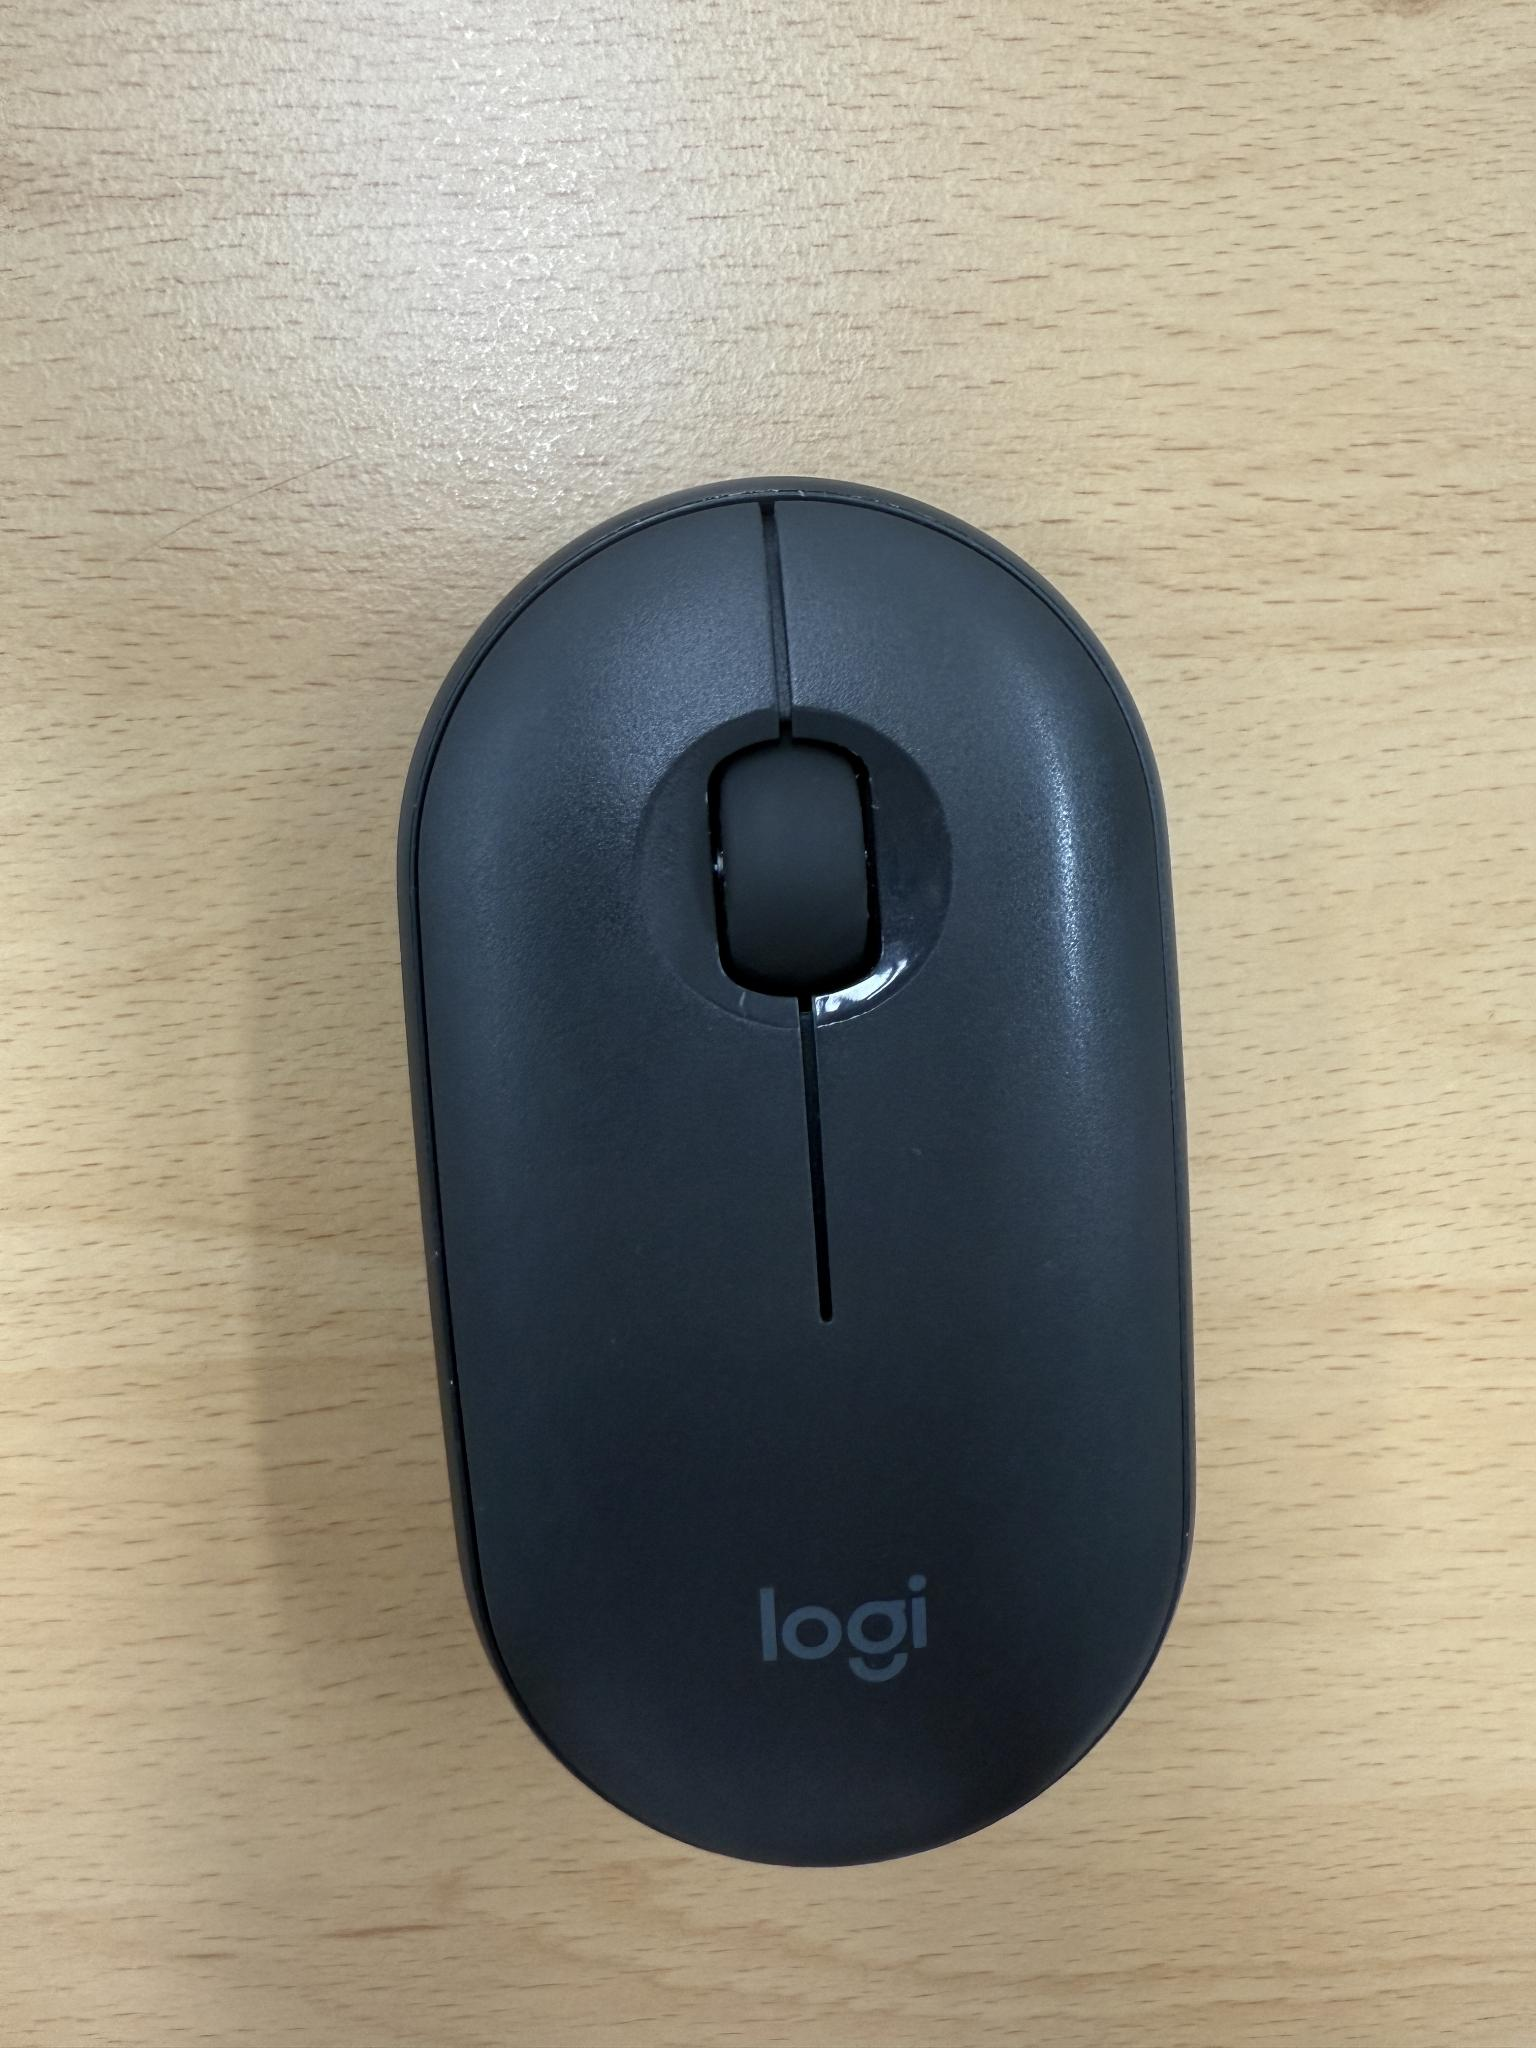front: (390, 472, 1208, 1874)
